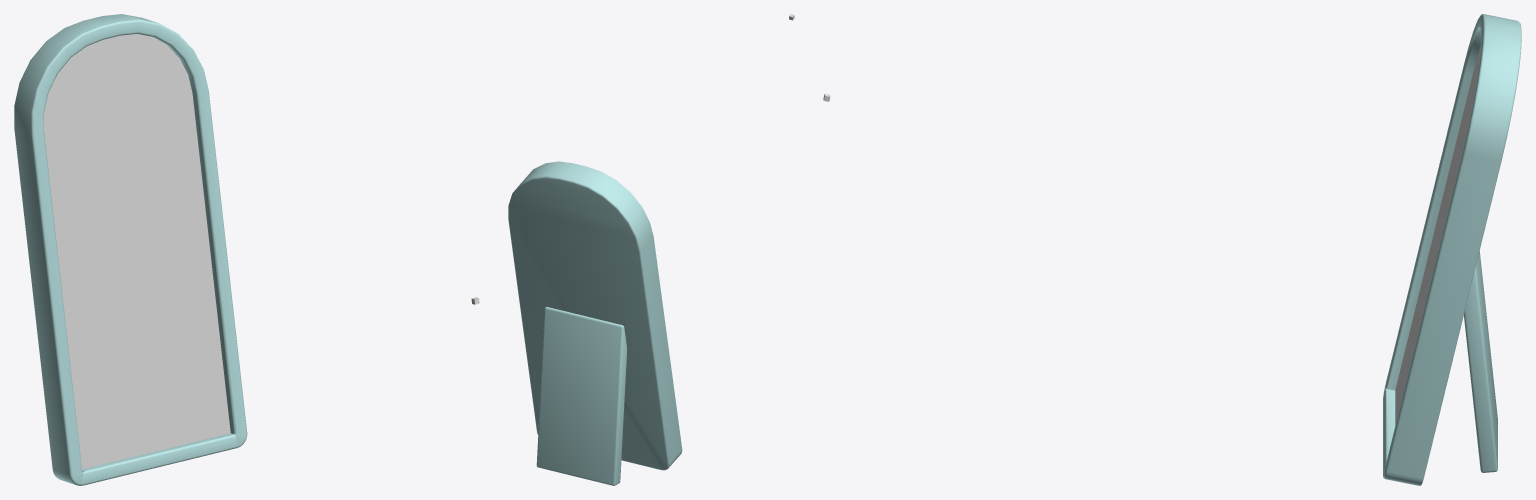
The model's file is mirror.gltf.
3 renders of one model, left to right at view 1: azimuth 30°, elevation 25°; view 2: azimuth 150°, elevation 25°; view 3: azimuth 270°, elevation 25°, orthographic. The views are drawn at different scales.
Parts seen in each view (by area): view 1: Cube.1-mirror, Cube.1-rmirror; view 2: Cube.1-rmirror, Cube; view 3: Cube.1-rmirror, Cube, Cube.1-mirror.
Boxes of the visible parts, left/top/right/bottom form: Cube.1-mirror: left=44, top=34, right=230, bottom=469; Cube.1-rmirror: left=14, top=14, right=247, bottom=485; Cube.1-rmirror: left=508, top=161, right=682, bottom=470; Cube: left=536, top=307, right=627, bottom=485; Cube.1-rmirror: left=1383, top=14, right=1521, bottom=485; Cube: left=1464, top=251, right=1497, bottom=472; Cube.1-mirror: left=1395, top=46, right=1480, bottom=424.
Size of the model in its own units: 0.3699 by 0.8263 by 1.24.
